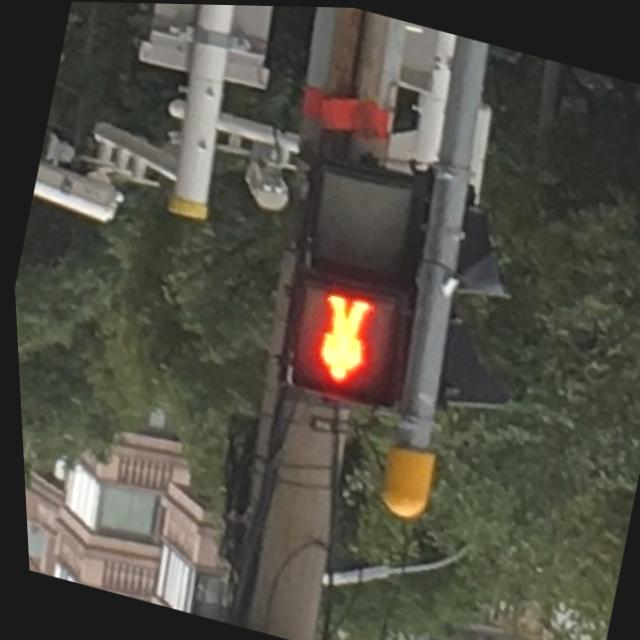red_light: (275, 274, 397, 405)
